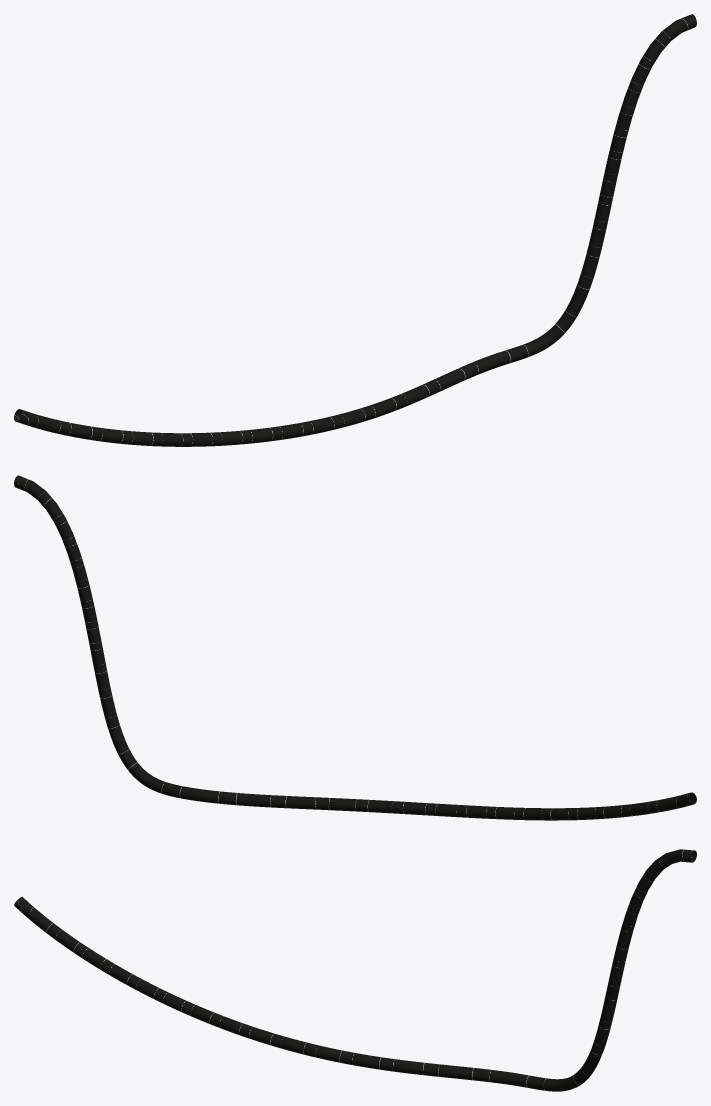
Rendered from cable_l_2.glb.
3 views of the same model, one above another, from view 1: azimuth 30°, elevation 25°; view 2: azimuth 150°, elevation 25°; view 3: azimuth 330°, elevation 25° (orthographic). The views are drawn at different scales.
Parts seen in each view (by area): view 1: NurbsPath.002; view 2: NurbsPath.002; view 3: NurbsPath.002.
Part boxes in pixels (x1=…): NurbsPath.002: x1=14, y1=14, x2=696, y2=446; NurbsPath.002: x1=14, y1=475, x2=696, y2=820; NurbsPath.002: x1=14, y1=849, x2=696, y2=1091.
Size of the model in its own units: 7.58 by 3.12 by 0.8841.
1 material, 1 textured.
